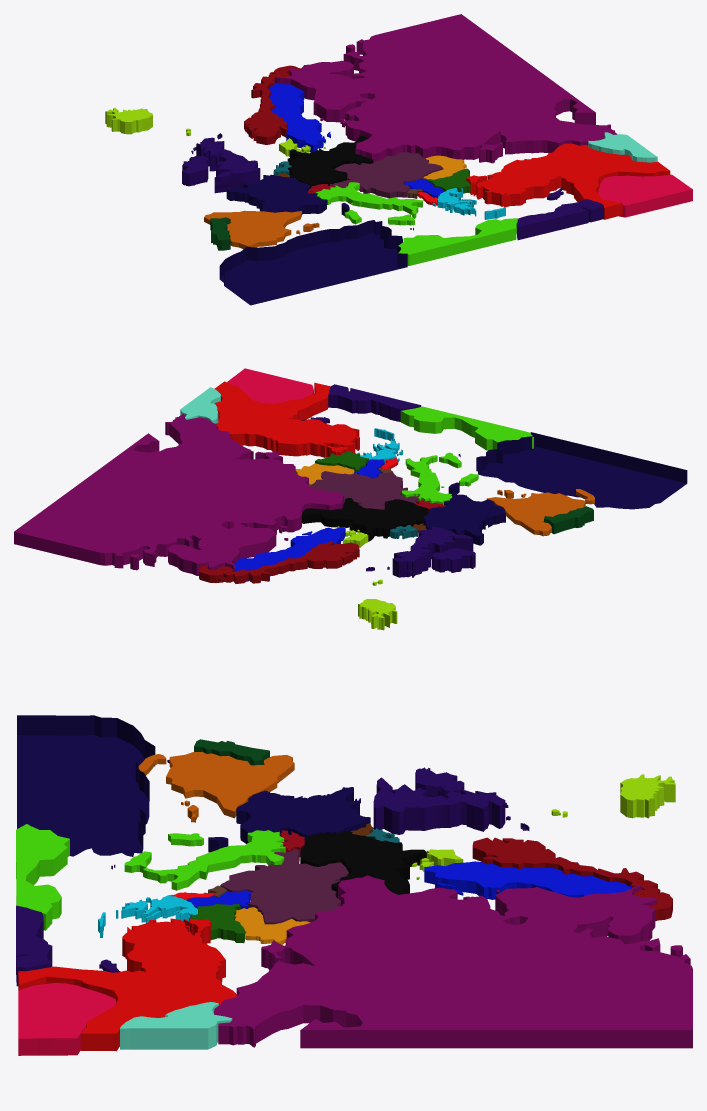
File: WorldWar.glb
3 views of the same model, one above another, from view 1: azimuth 30°, elevation 25°; view 2: azimuth 150°, elevation 25°; view 3: azimuth 270°, elevation 25° (orthographic). The views are drawn at different scales.
Visible parts, largest first — view 1: Cube.022; view 2: Cube.022; view 3: Cube.022.
Boxes of the visible parts, left/top/right/bottom form: Cube.022: left=105, top=14, right=692, bottom=305; Cube.022: left=14, top=368, right=687, bottom=630; Cube.022: left=16, top=715, right=692, bottom=1055.
Bounding box in the file's own units: 5.04 × 0.5078 × 4.54.
